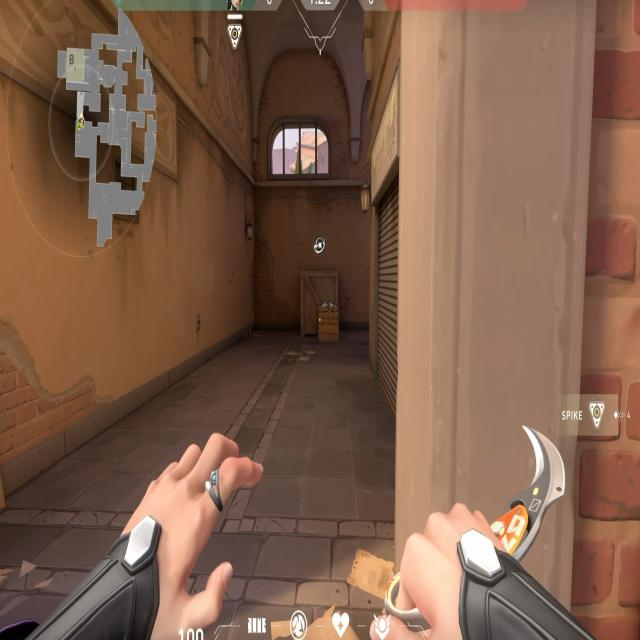B_Main_Wallbang: (296, 221, 348, 360)
Throwables: (264, 108, 335, 194)
